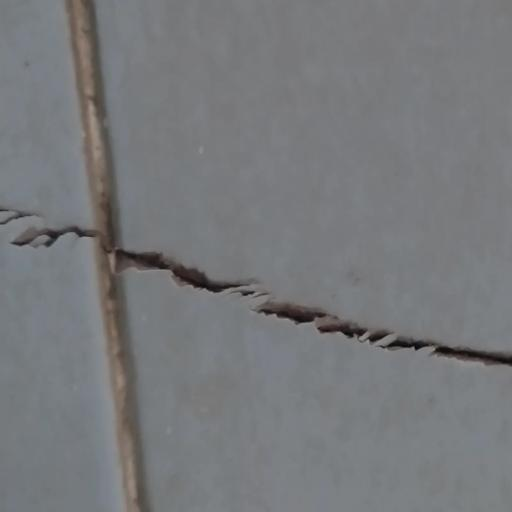major_crack: (0, 192, 512, 376)
